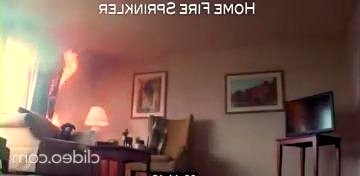fire: (52, 36, 97, 94)
